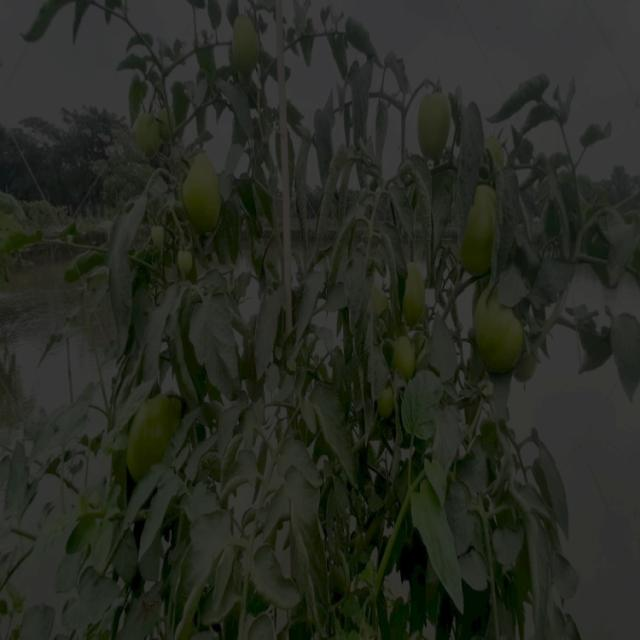tomato: (120, 384, 195, 487), (476, 286, 541, 388), (468, 184, 511, 277), (185, 155, 228, 236), (227, 13, 270, 82), (133, 103, 180, 163), (424, 89, 458, 162), (401, 260, 434, 328), (477, 129, 509, 176), (389, 340, 423, 379), (368, 288, 392, 332), (373, 387, 402, 422), (178, 249, 200, 280), (149, 224, 168, 255)
